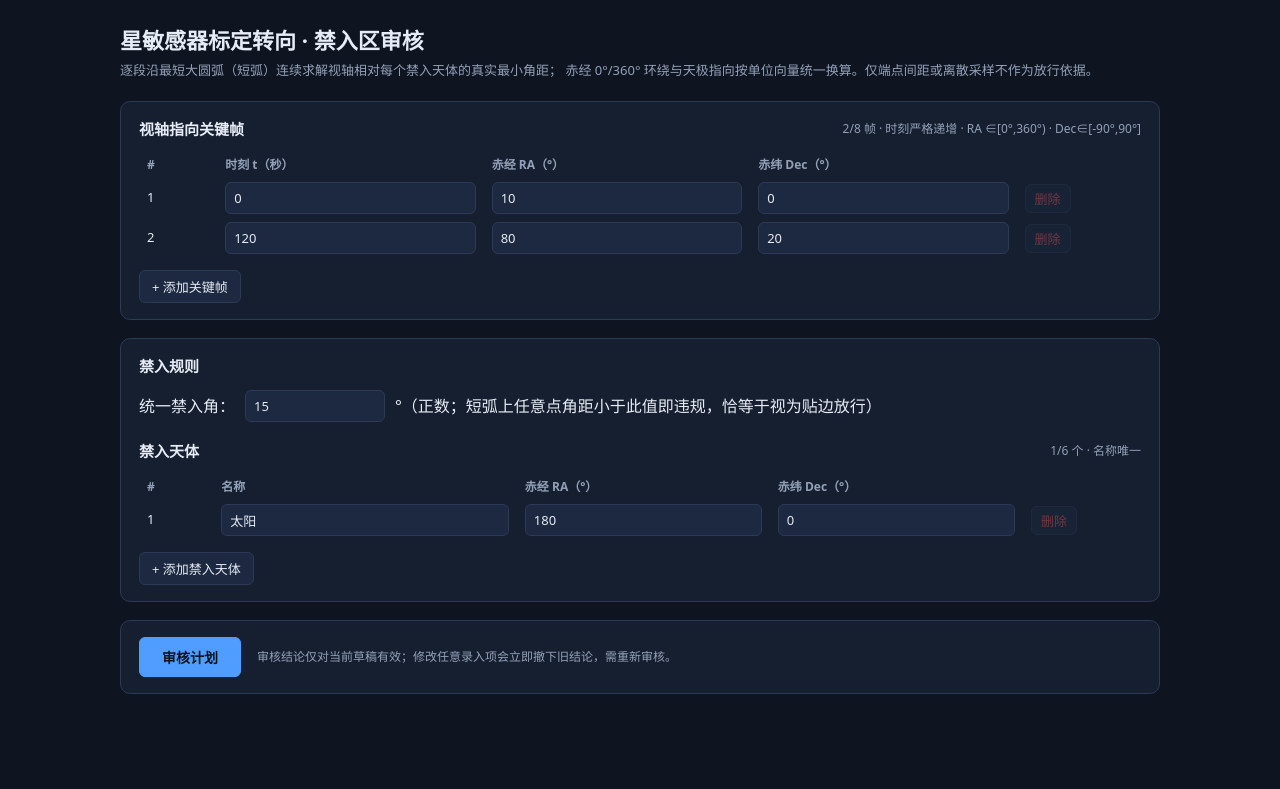
App：录入与审核流程 › 重名天体被拒绝，改名唯一后可审核通过
The image size is (1280, 789).
Click the button "+ 添加禁入天体" at point(196, 568), box [139,552,254,585]
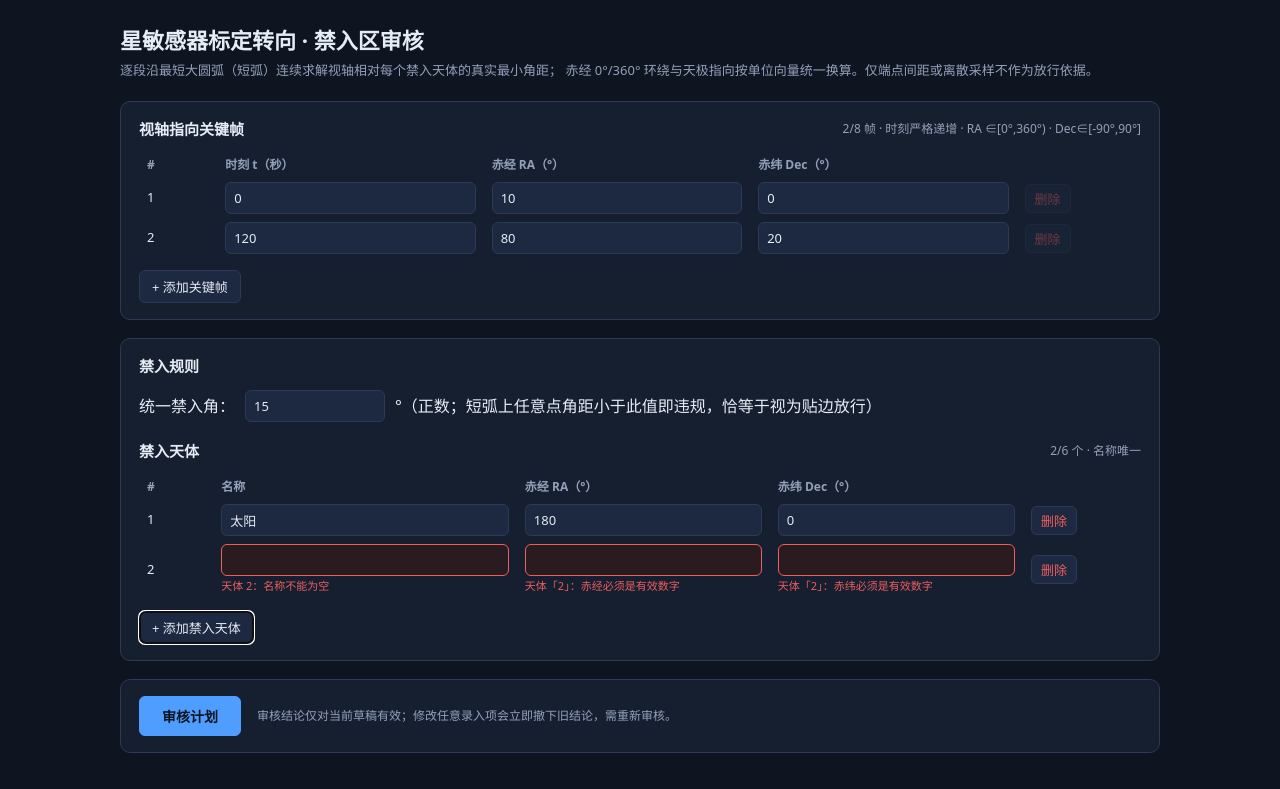
Type "太阳" into the field named "天体 2 名称" at point(365, 560), box [221,544,509,576]
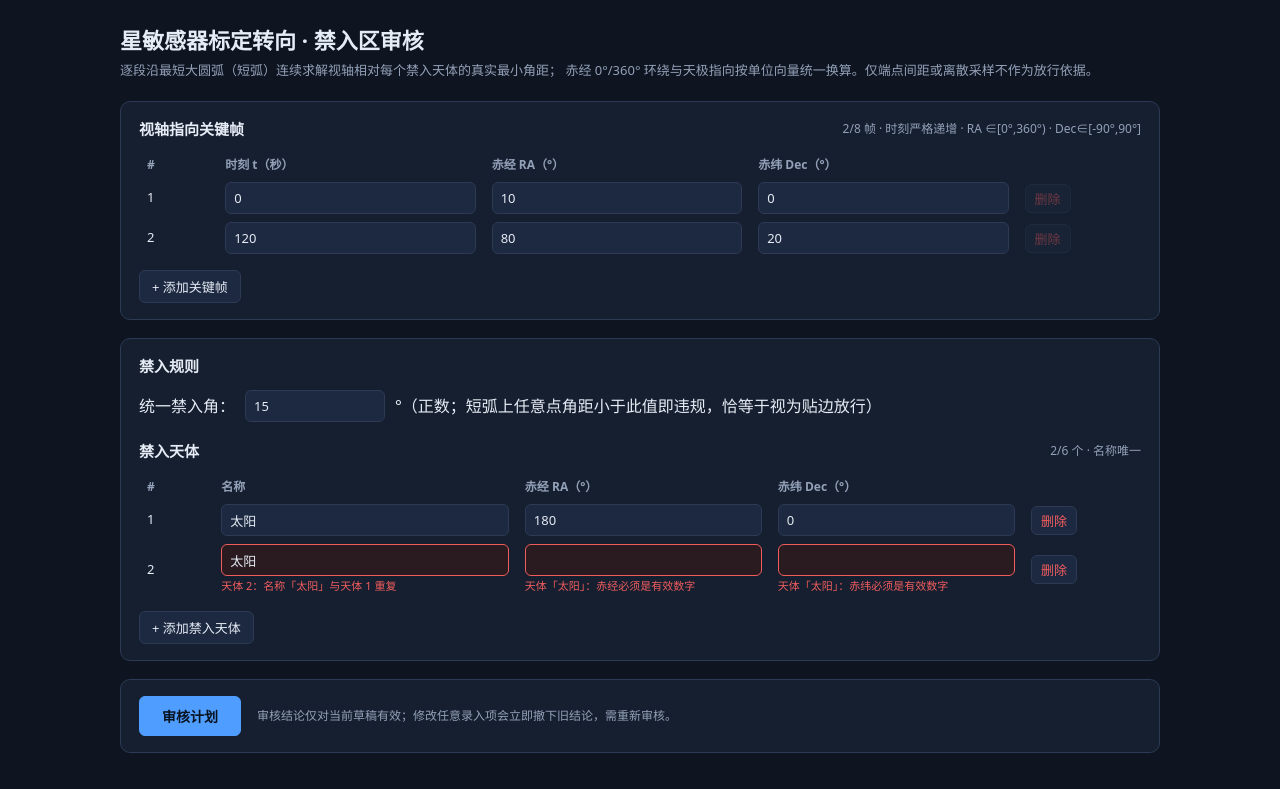
Type "270" into the field named "天体 2 赤经" at point(643, 560), box [525,544,762,576]
Type "0" into the field named "天体 2 赤纬" at point(896, 560), box [778,544,1015,576]
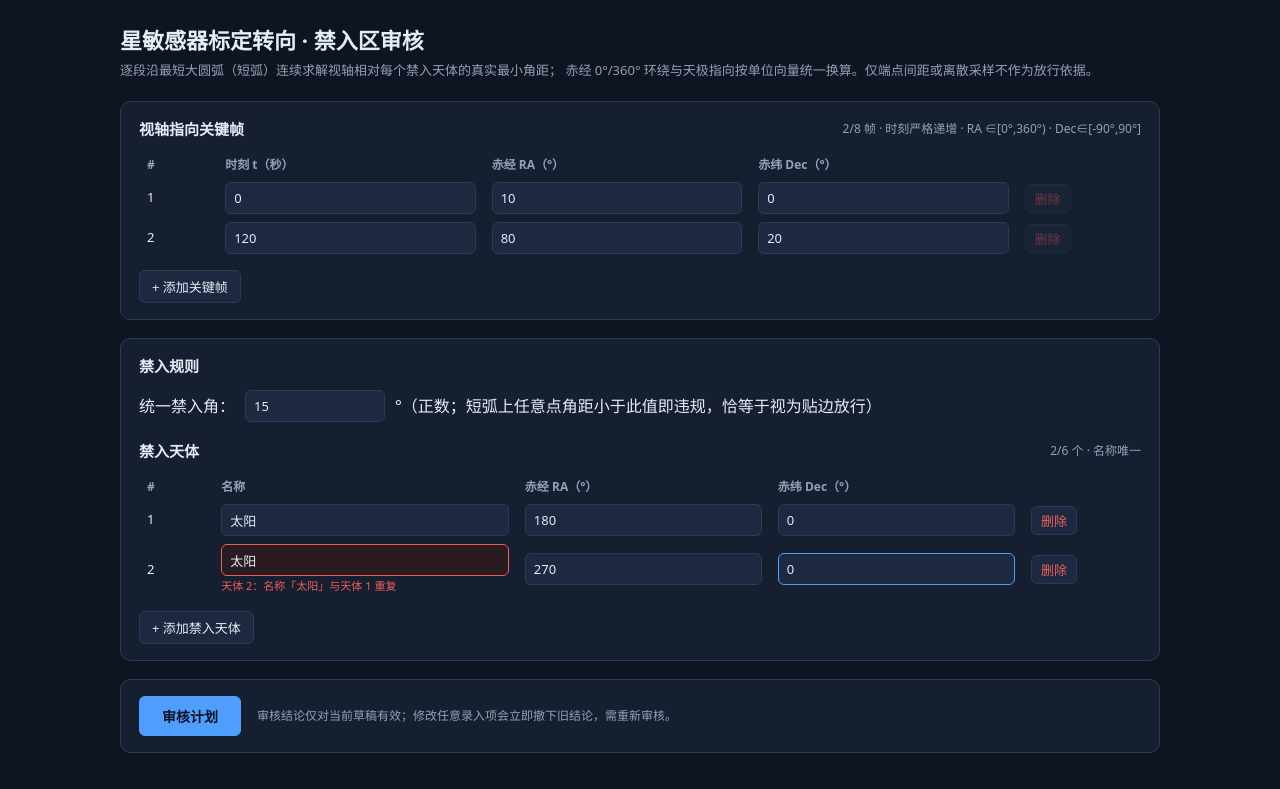
Click the button with test id "audit-button" at point(190, 716), box [139,696,241,736]
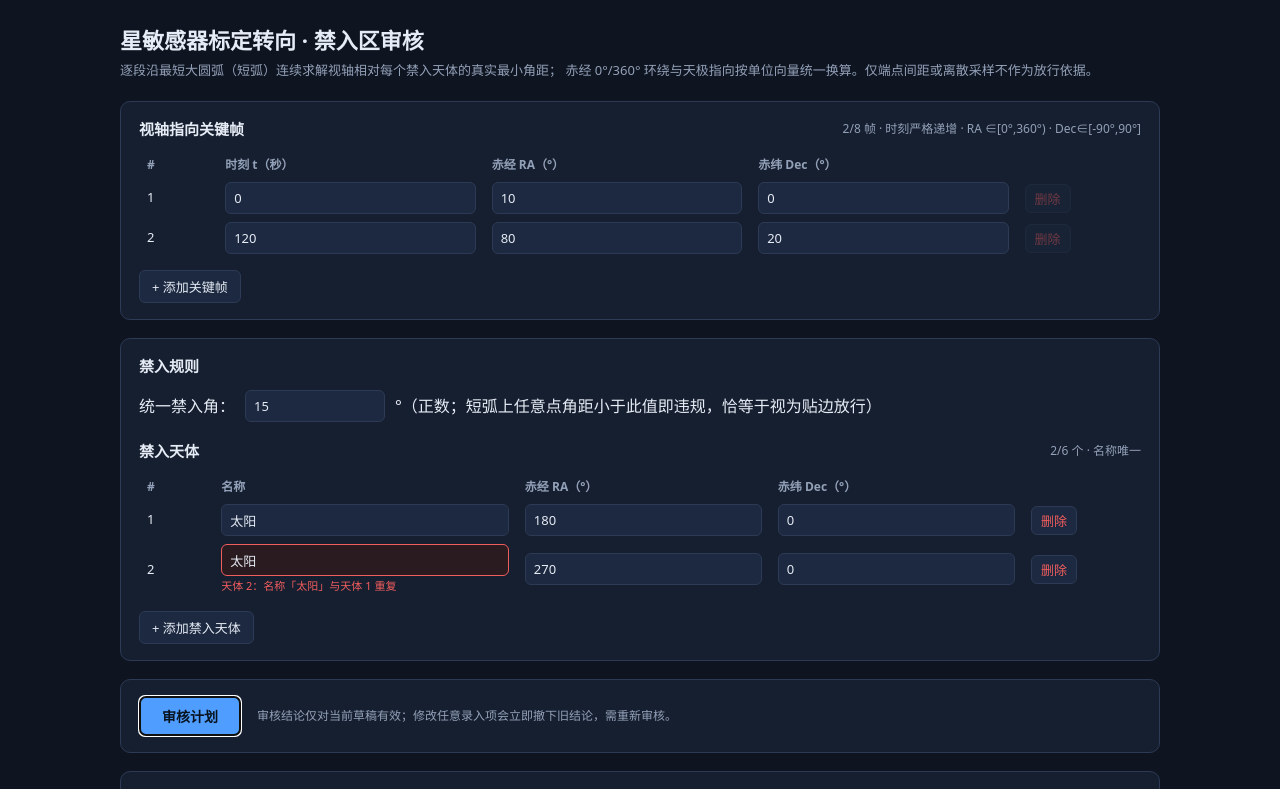
Replace the text in the field named "天体 2 名称" with "月球" at point(365, 560), box [221,544,509,576]
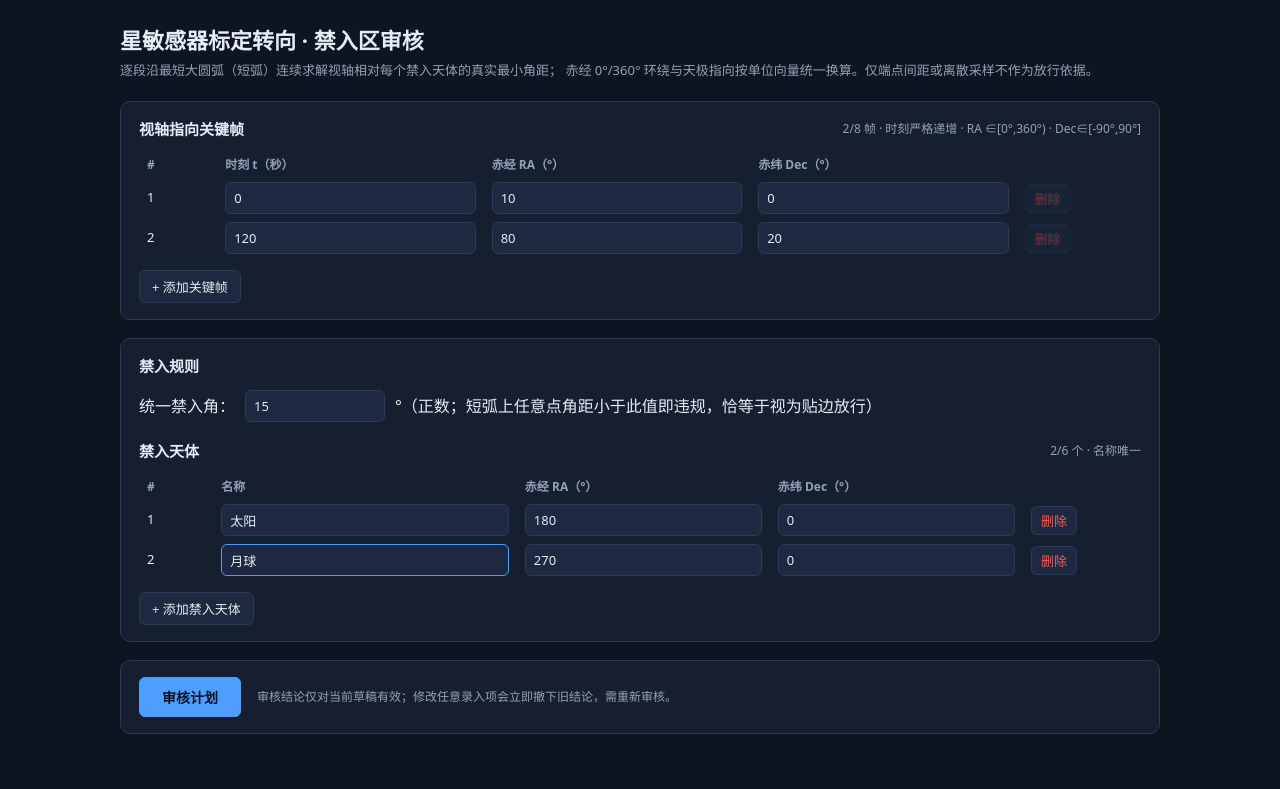
Click the button with test id "audit-button" at point(190, 697), box [139,677,241,717]
(page scrolled)
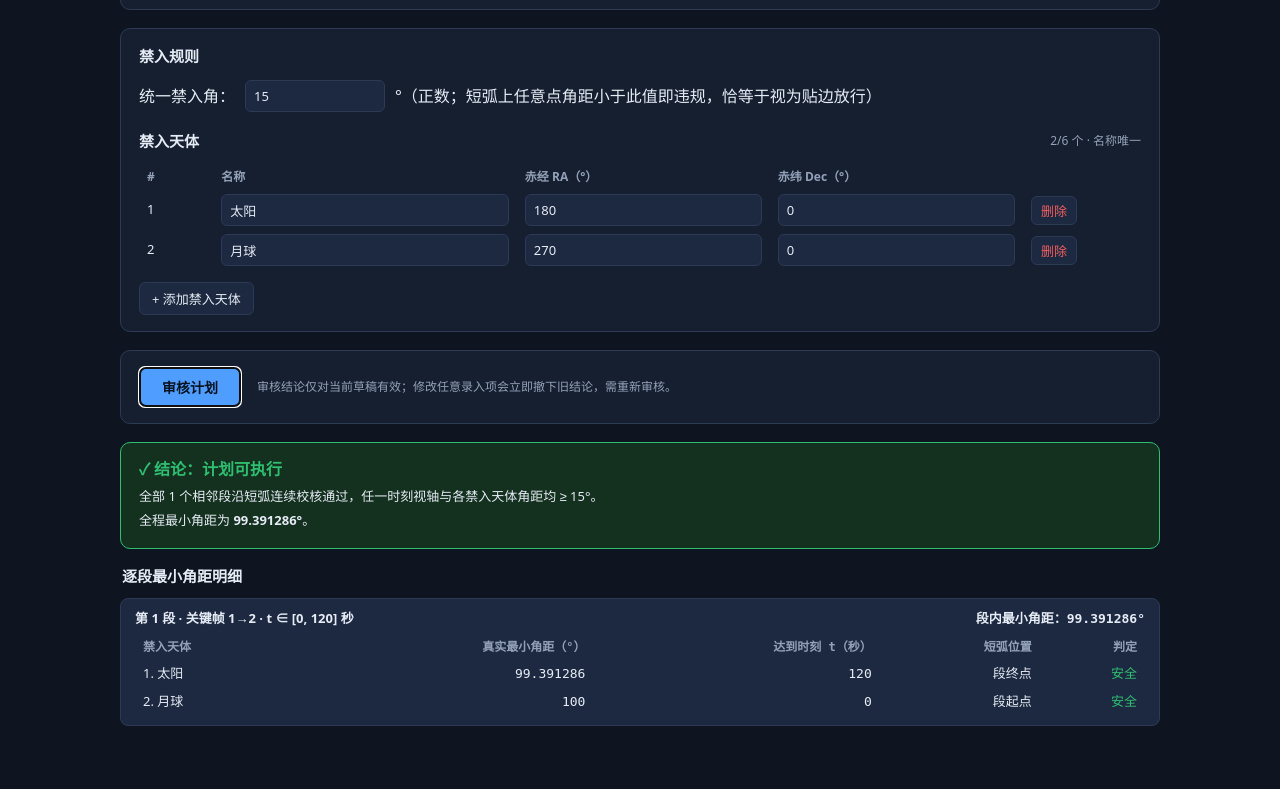
Expected: the element with test id "verdict-pass" is shown, [120,442,1160,549]
